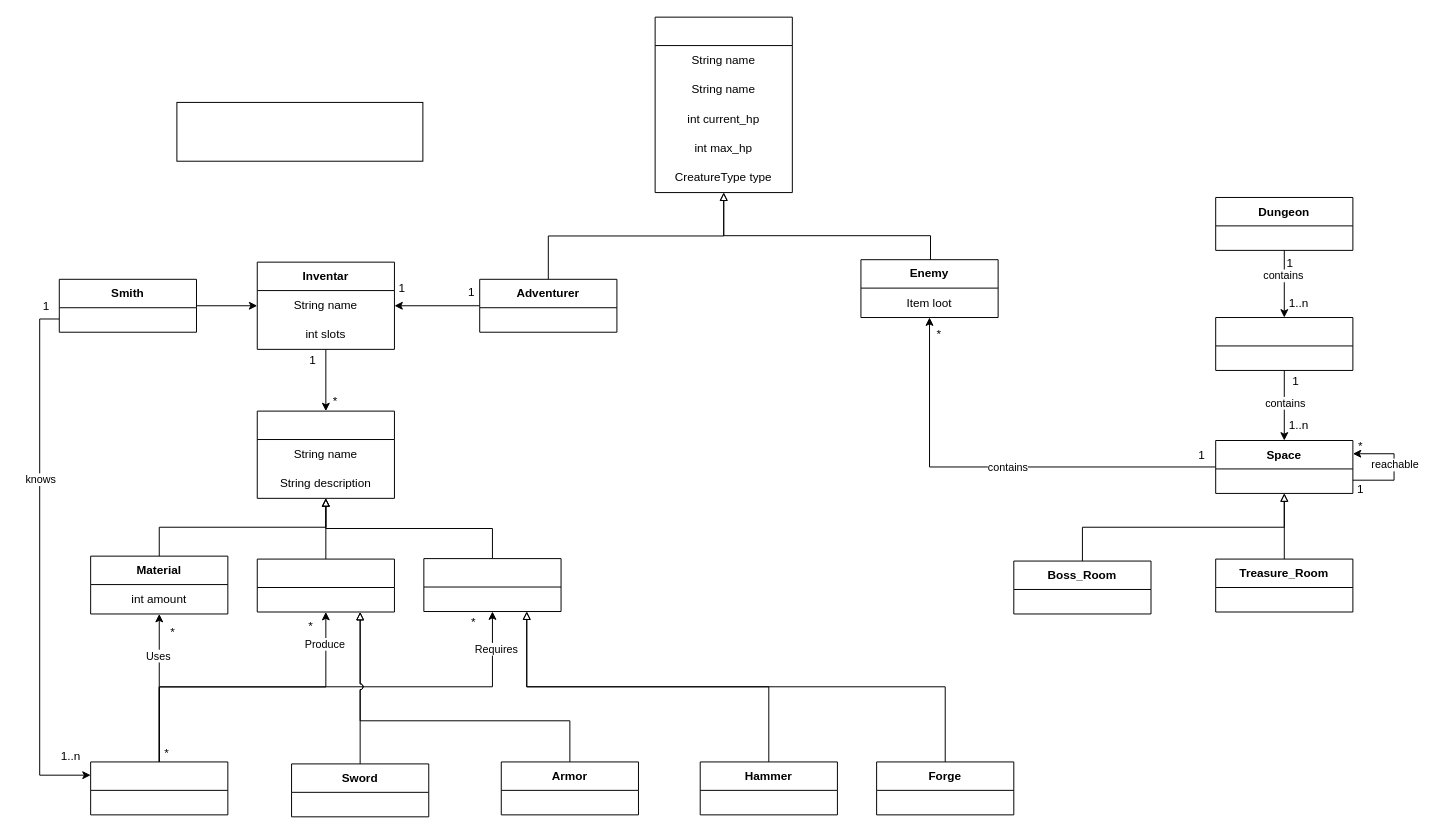
Some shapes in this 1435 by 834 pixel diagram are drawn without their labels. The shapes that lost their labels are listed below. From the top down, each one's box as (x1, y1, x2, y2) in pixels, then its label:
(654, 16, 792, 193): Entity
(176, 101, 423, 161): Enum CreatureType: HUMAN, UNDEAD, ...
(1215, 317, 1353, 370): Level
(256, 410, 394, 498): Item
(256, 558, 394, 612): Equipment
(423, 558, 561, 612): Tools
(90, 761, 228, 815): Recipe
